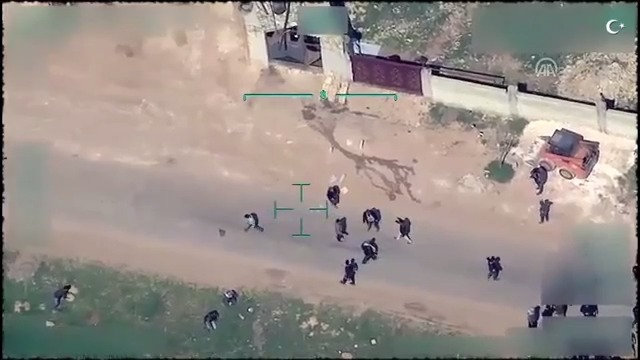insan: (394, 213, 414, 247), (242, 203, 258, 241), (535, 196, 551, 229)
